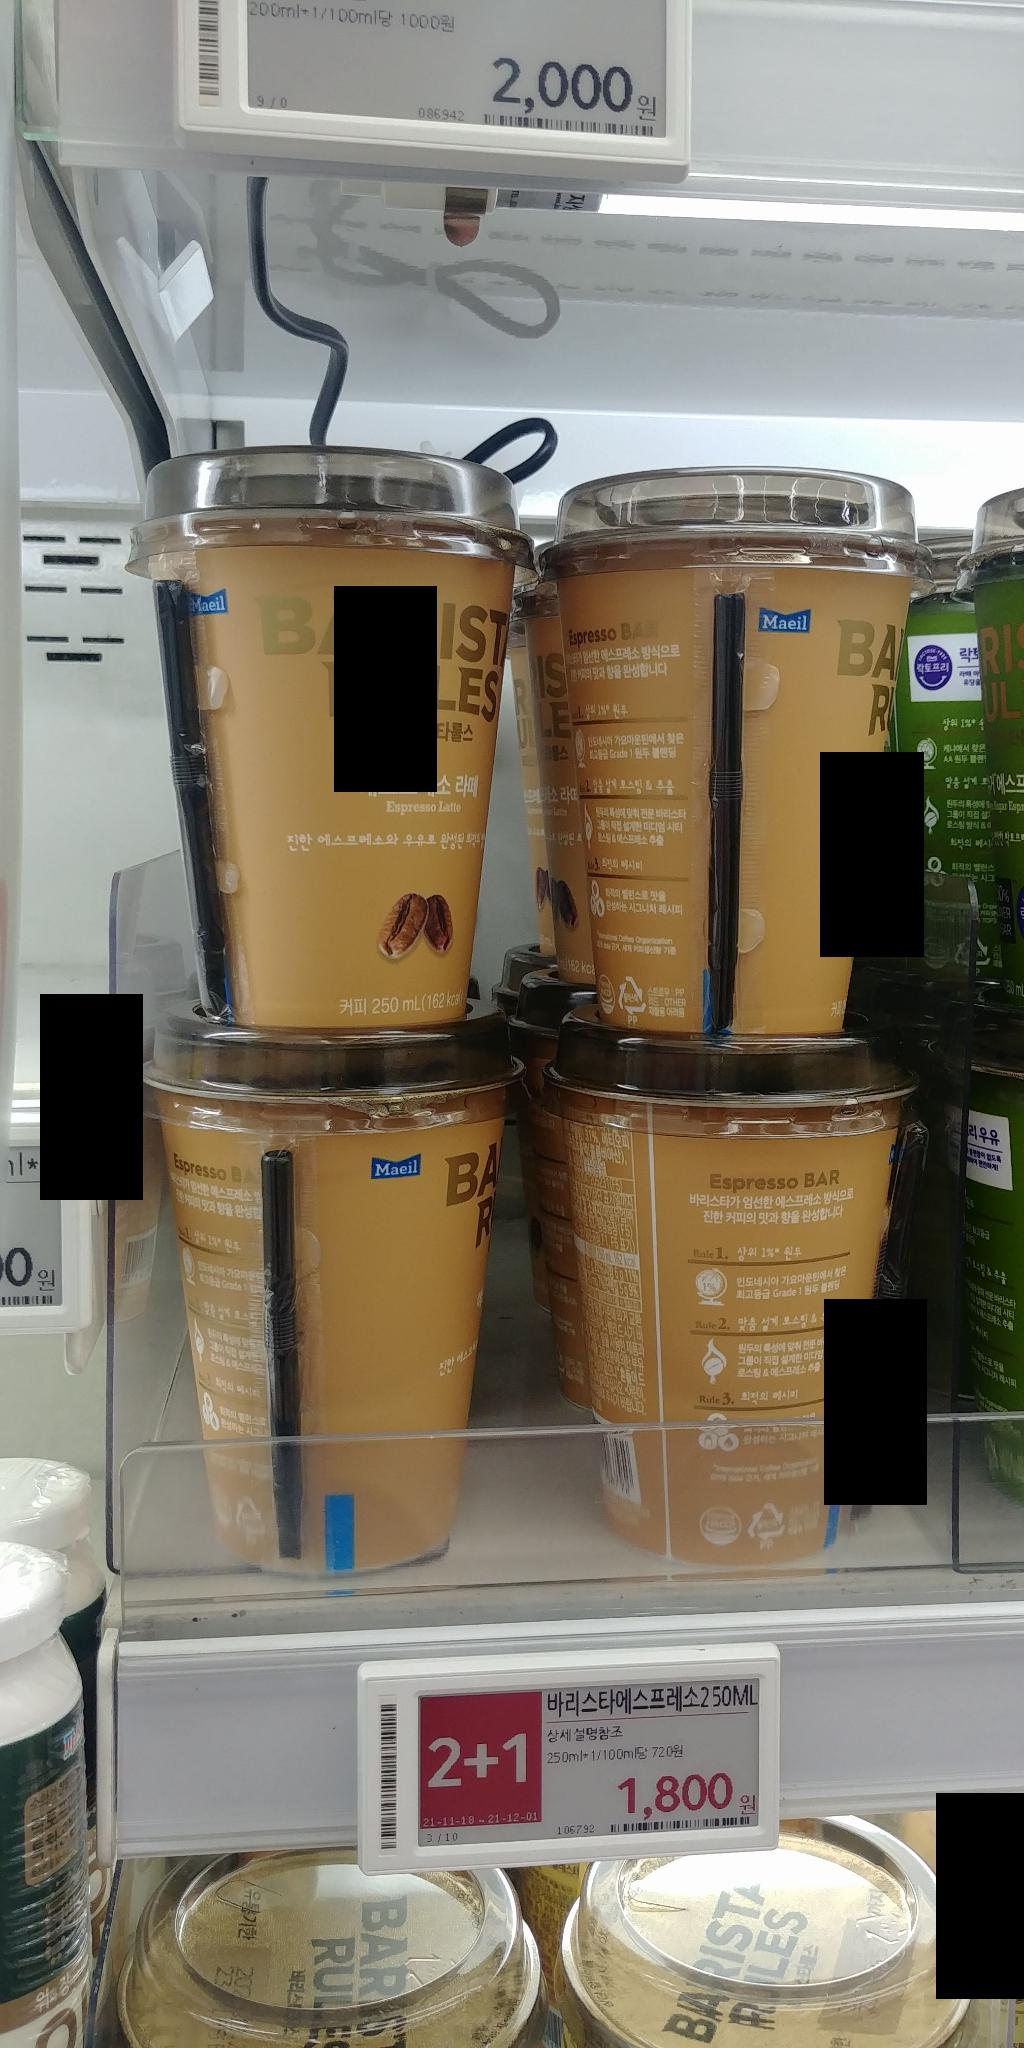baristarules_espressolatte: (137, 443, 498, 1033), (146, 994, 504, 1582), (552, 462, 886, 1050), (545, 1021, 891, 1565)
